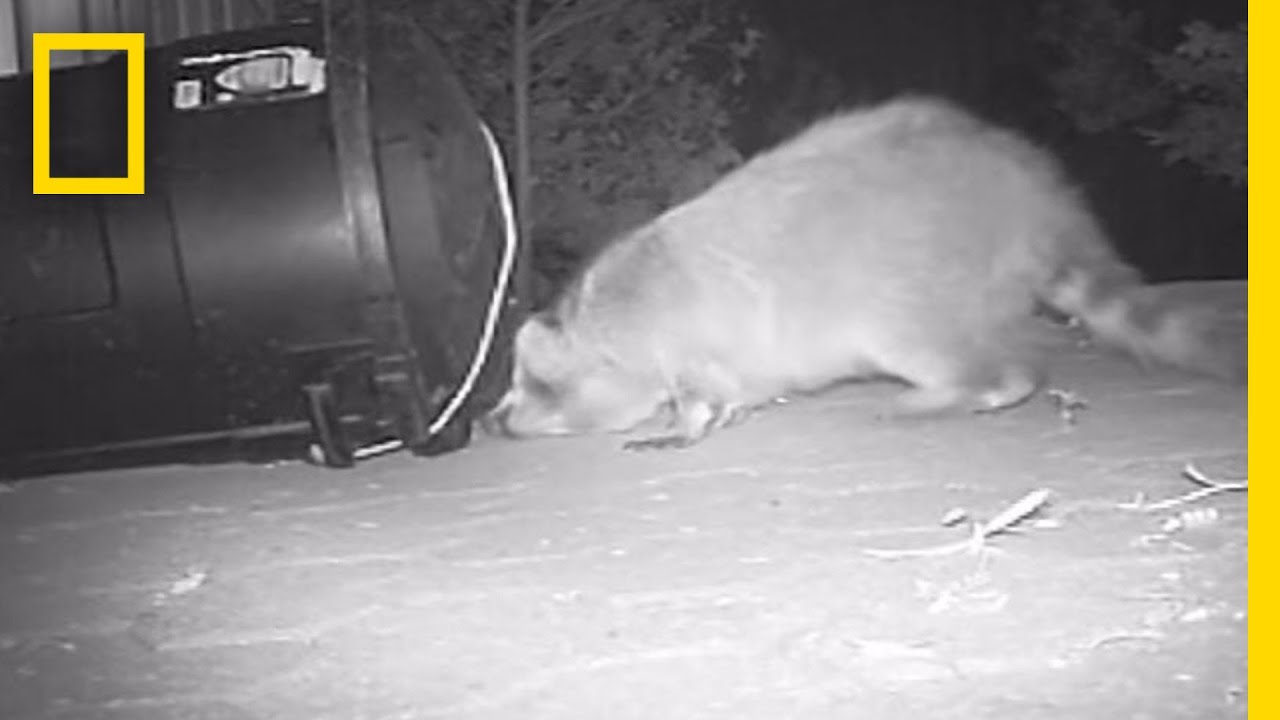raccoon: (467, 94, 1249, 435)
